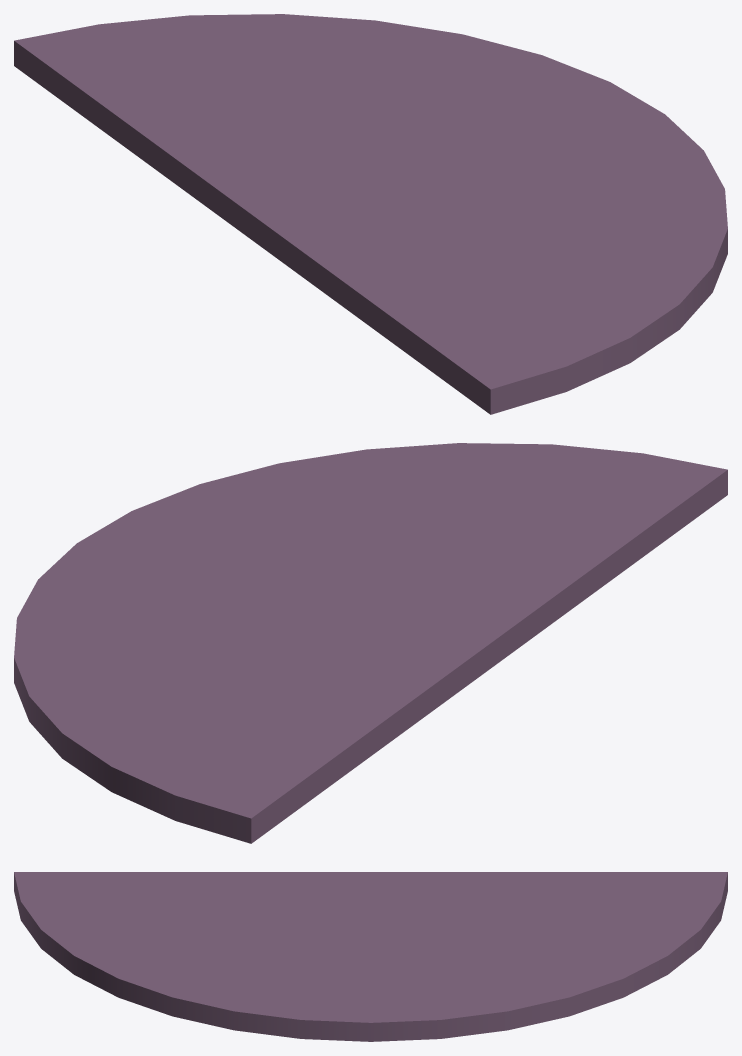
The model's file is Floor_01_Circle_Small.fbx.
3 renders of one model, top to bottom at view 1: azimuth 30°, elevation 25°; view 2: azimuth 150°, elevation 25°; view 3: azimuth 270°, elevation 25°, orthographic. The views are drawn at different scales.
Parts seen in each view (by area): view 1: Floor_01_Circle_Small; view 2: Floor_01_Circle_Small; view 3: Floor_01_Circle_Small.
Part boxes in pixels (bbox=[...]): Floor_01_Circle_Small: bbox=[14, 14, 727, 414]; Floor_01_Circle_Small: bbox=[14, 443, 727, 843]; Floor_01_Circle_Small: bbox=[14, 872, 727, 1041].
Bounding box in the file's own units: 216 × 12.71 × 433.
